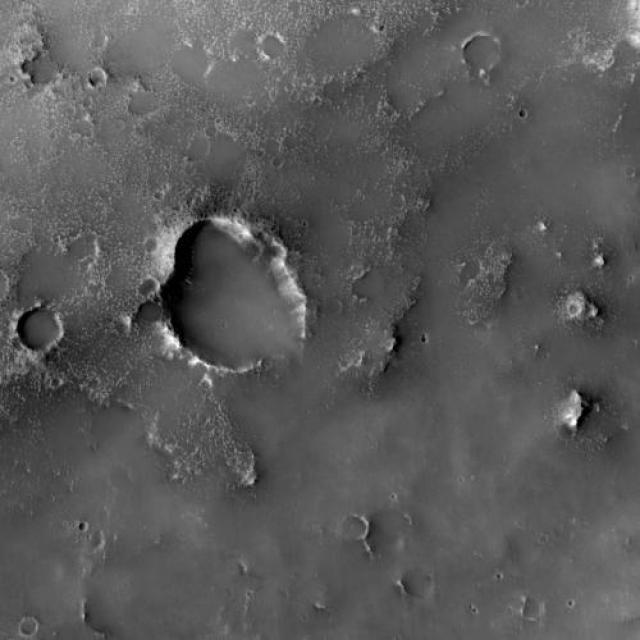crater: (119, 187, 367, 393), (26, 0, 188, 79), (0, 517, 83, 640), (6, 300, 95, 375), (0, 0, 77, 68), (0, 64, 51, 161), (0, 0, 67, 64), (574, 0, 640, 59), (340, 0, 432, 38), (0, 0, 60, 58), (403, 0, 489, 35), (0, 0, 56, 51), (502, 0, 578, 32)
